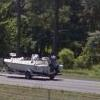Boat: (5, 46, 62, 80)
